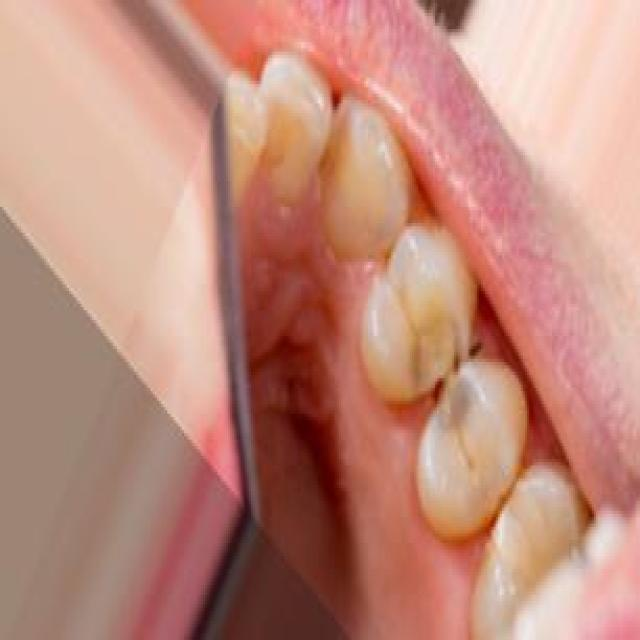caries: (394, 302, 493, 450)
